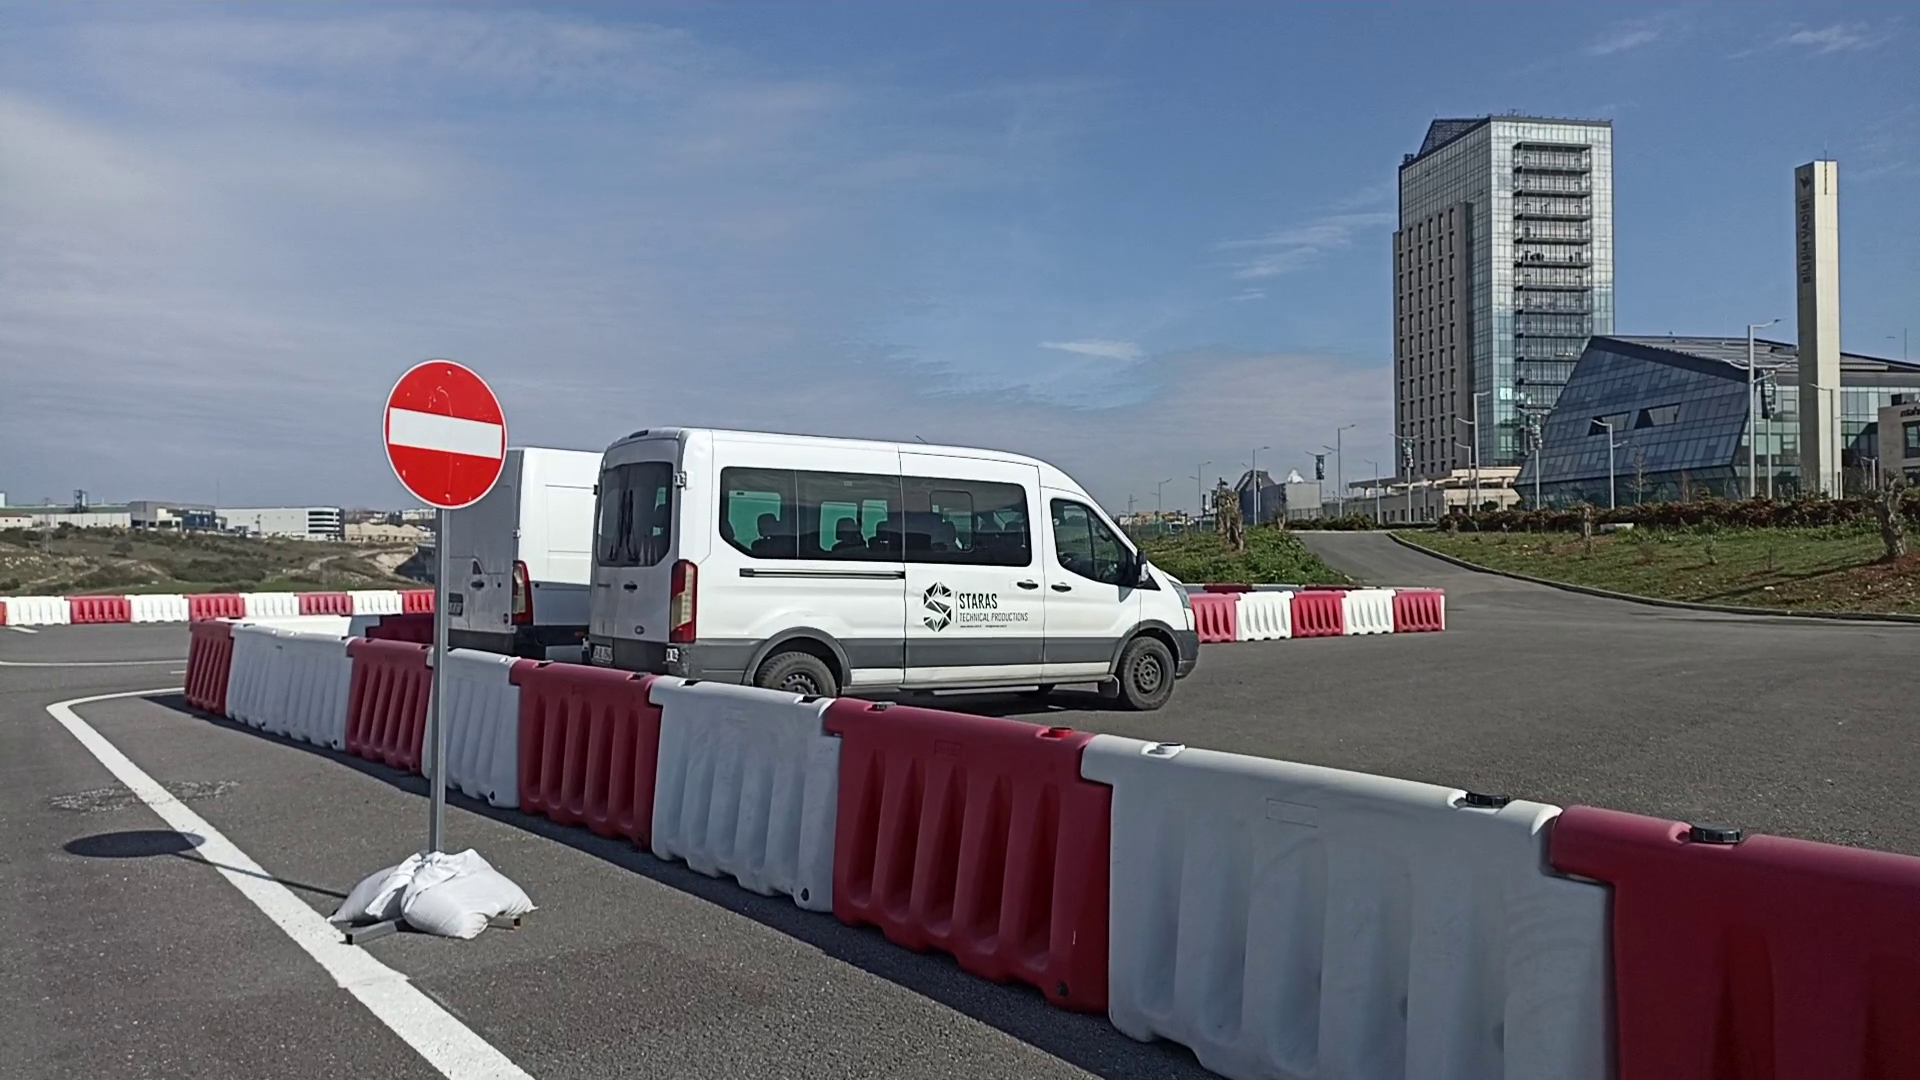noentryway: (381, 357, 510, 510)
